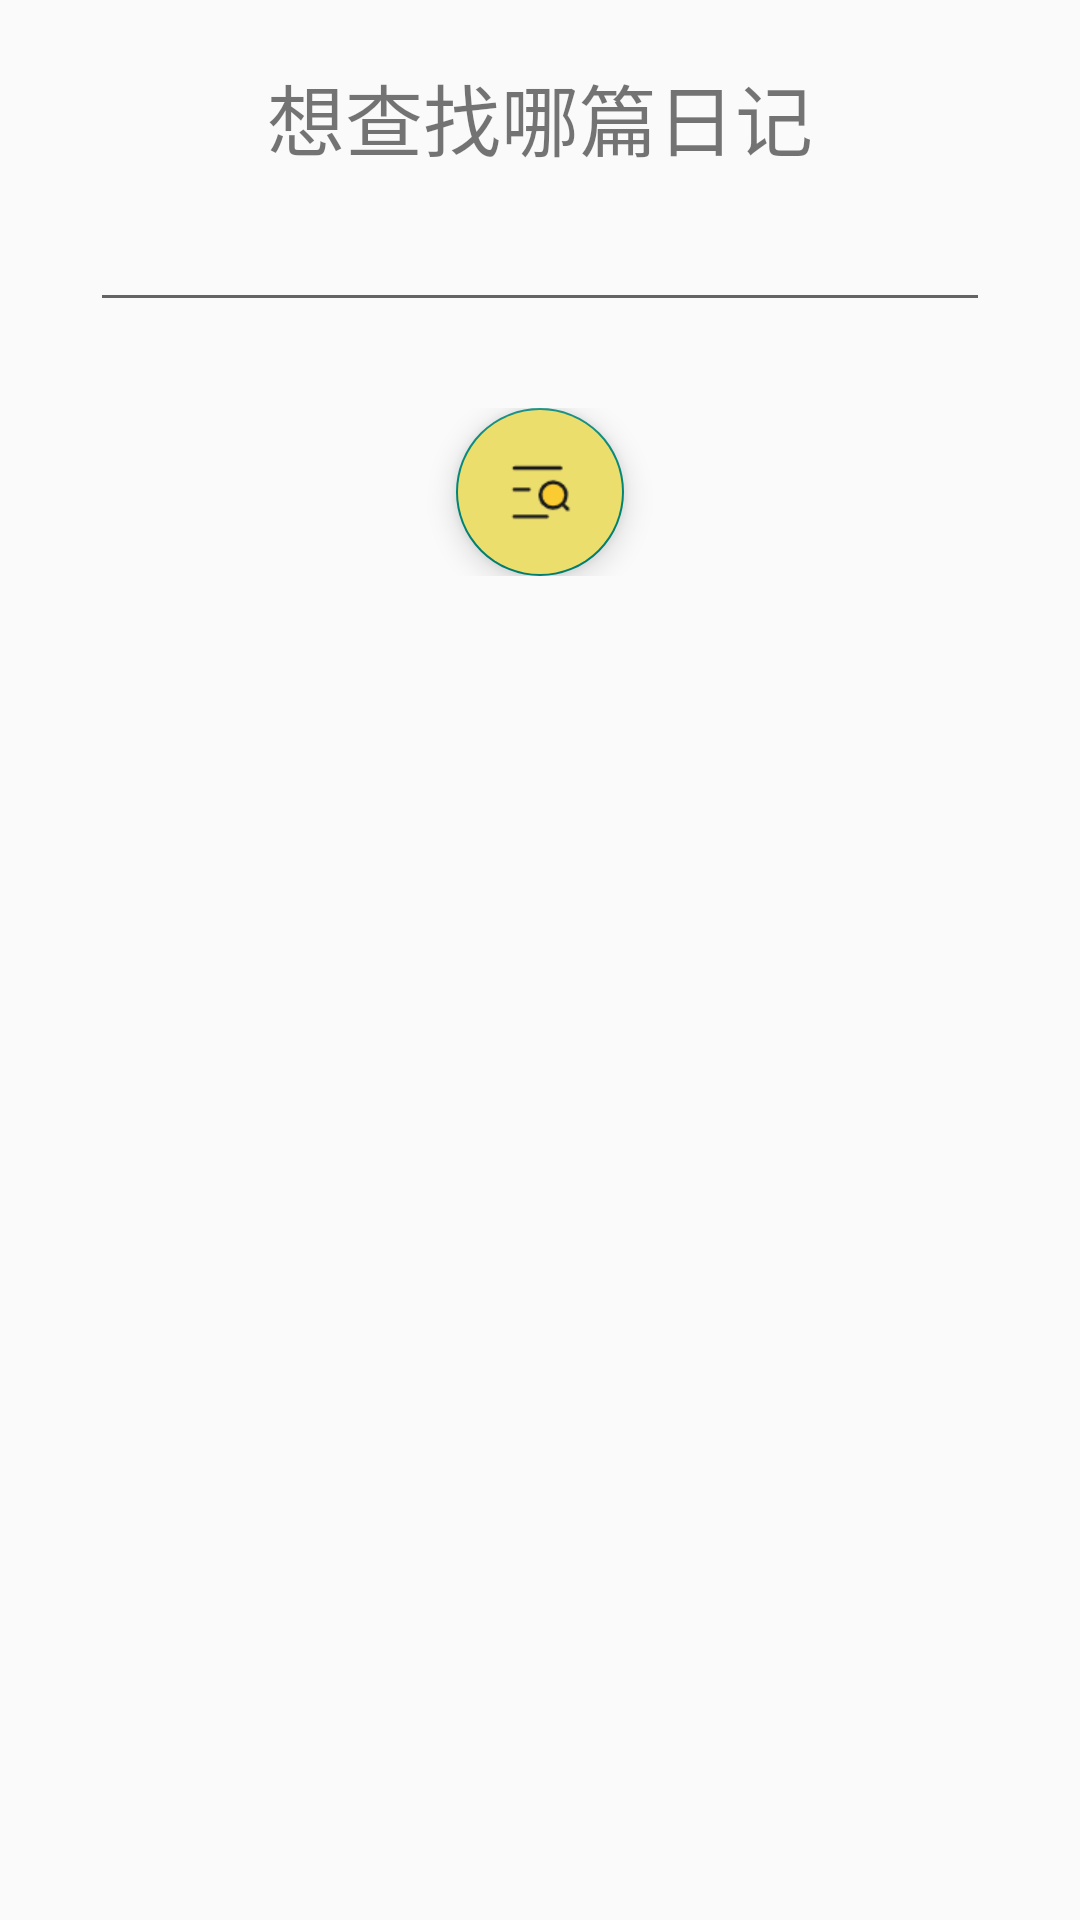

Icons on this 1080w x 1920h Android screen, each with the point to tap as point (x, y):
find out: point (540, 492)
